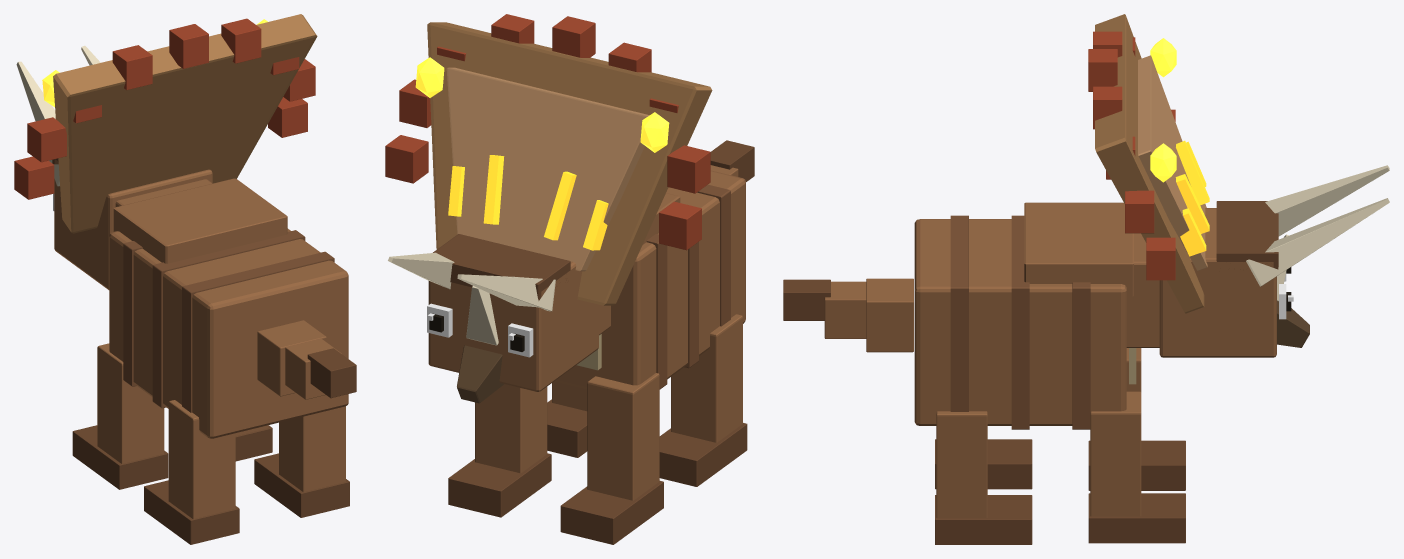
The model's file is triceratops.glb.
3 renders of one model, left to right at view 1: azimuth 30°, elevation 25°; view 2: azimuth 150°, elevation 25°; view 3: azimuth 270°, elevation 25°, orthographic. The views are drawn at different scales.
Visible parts, largest first — view 1: body, head, leg.BR, leg.FR, leg.BL, tail, leg.FL; view 2: head, body, leg.FR, leg.BR, leg.FL, leg.BL, tail; view 3: body, head, leg.FL, leg.BL, tail, leg.FR, leg.BR.
Boxes of the visible parts, <box> form: body: <box>109,178,348,438</box>; head: <box>14,14,317,289</box>; leg.BR: <box>144,400,239,544</box>; leg.FR: <box>72,343,168,489</box>; leg.BL: <box>254,406,349,517</box>; tail: <box>257,320,356,399</box>; leg.FL: <box>235,425,272,461</box>; head: <box>385,14,712,403</box>; body: <box>555,170,745,389</box>; leg.FR: <box>560,373,663,544</box>; leg.BR: <box>659,314,747,486</box>; leg.FL: <box>448,384,551,517</box>; leg.BL: <box>547,381,587,457</box>; tail: <box>710,140,754,181</box>; body: <box>914,202,1159,429</box>; head: <box>1088,14,1389,357</box>; leg.FL: <box>1088,391,1185,543</box>; leg.BL: <box>935,411,1032,544</box>; tail: <box>783,278,913,352</box>; leg.FR: <box>1088,348,1185,490</box>; leg.BR: <box>935,439,1032,489</box>.
Size of the model in its own units: 0.6736 by 1 by 1.22.
